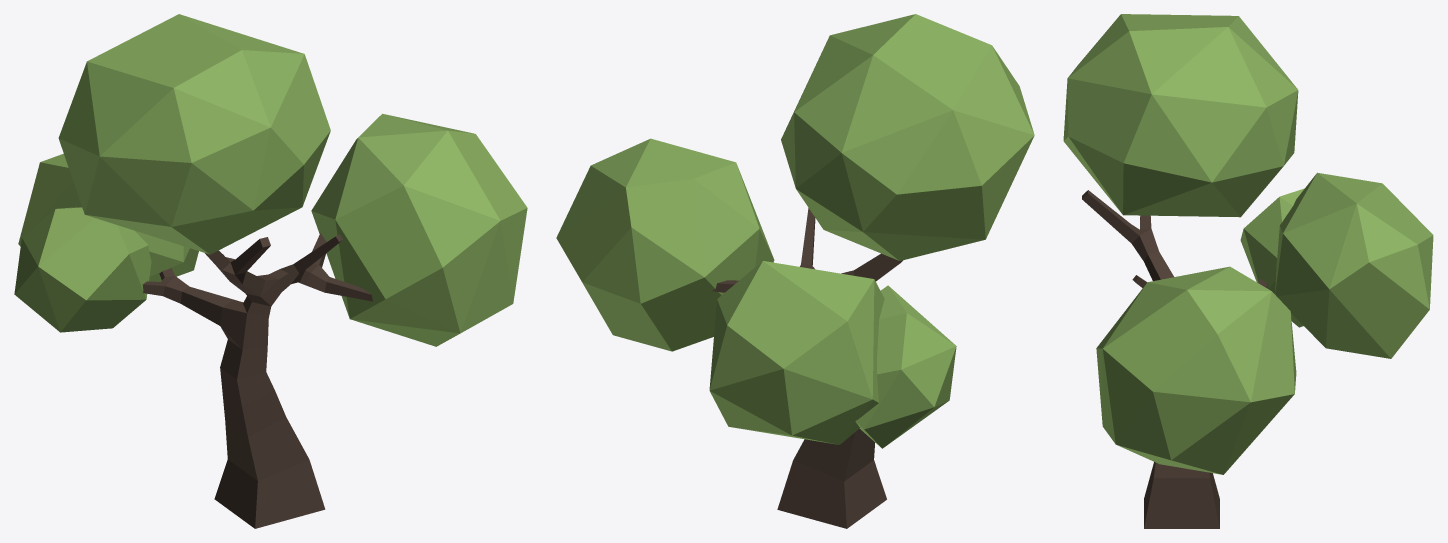
The model's file is greentree_2.fbx.
The picture shows the model from 3 angles, left to right: view 1: azimuth 30°, elevation 25°; view 2: azimuth 150°, elevation 25°; view 3: azimuth 270°, elevation 25°; orthographic projection. The views are drawn at different scales.
Parts seen in each view (by area): view 1: greentree_2; view 2: greentree_2; view 3: greentree_2.
Part boxes in pixels (x1,y1,x2,y2): greentree_2: [14, 14, 527, 528]; greentree_2: [556, 14, 1034, 528]; greentree_2: [1063, 14, 1433, 528].
Bounding box in the file's own units: 1409 × 1535 × 1123.
